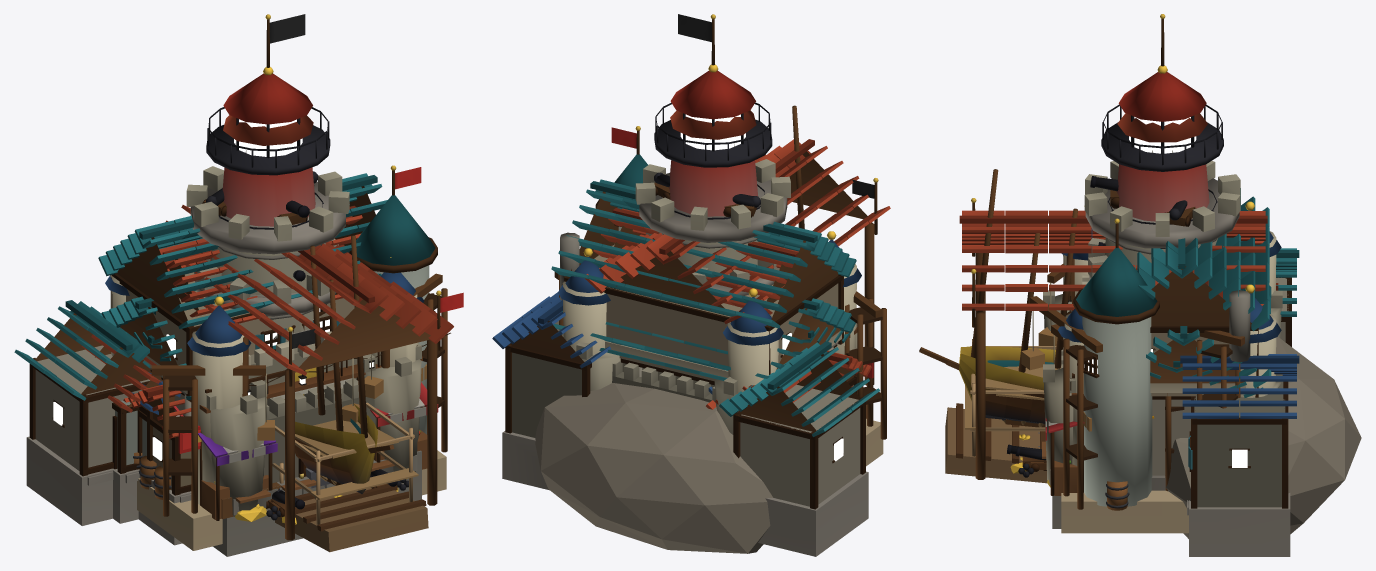
Rendered from buildings.glb.
3 renders of one model, left to right at view 1: azimuth 30°, elevation 25°; view 2: azimuth 150°, elevation 25°; view 3: azimuth 270°, elevation 25°, orthographic. The views are drawn at different scales.
Visible parts, largest first — view 1: shipyard_3, tower_3, tavern_3, lighthouse_3, market_3, vault_3, shipyard_2, dock_3, shipyard_1, mine_2, tower_2, tavern_2 (+1 smaller); view 2: shipyard_3, mine_1, tavern_3, tower_3, mine_3, lighthouse_3, vault_3, market_3, dock_3, tavern_2, tower_2, mine_2; view 3: tavern_3, shipyard_3, mine_3, tower_3, lighthouse_3, mine_1, market_3, dock_3, vault_3, shipyard_2, shipyard_1.
Part boxes in pixels (x1=…): shipyard_3: x1=14, y1=205, x2=463, y2=551; tower_3: x1=186, y1=14, x2=421, y2=556; tavern_3: x1=98, y1=165, x2=450, y2=503; lighthouse_3: x1=131, y1=67, x2=330, y2=526; market_3: x1=99, y1=290, x2=446, y2=550; vault_3: x1=105, y1=257, x2=424, y2=521; shipyard_2: x1=81, y1=279, x2=426, y2=551; dock_3: x1=151, y1=273, x2=447, y2=519; shipyard_1: x1=279, y1=462, x2=427, y2=543; mine_2: x1=124, y1=384, x2=191, y2=545; tower_2: x1=194, y1=239, x2=338, y2=343; tavern_2: x1=159, y1=205, x2=362, y2=399; shipyard_3: x1=554, y1=105, x2=890, y2=556; mine_1: x1=535, y1=383, x2=773, y2=553; tavern_3: x1=551, y1=126, x2=873, y2=385; tower_3: x1=576, y1=14, x2=857, y2=434; mine_3: x1=492, y1=232, x2=871, y2=490; lighthouse_3: x1=654, y1=64, x2=772, y2=394; vault_3: x1=558, y1=231, x2=861, y2=392; market_3: x1=553, y1=298, x2=883, y2=466; dock_3: x1=604, y1=291, x2=886, y2=439; tavern_2: x1=593, y1=208, x2=798, y2=314; tower_2: x1=646, y1=233, x2=779, y2=295; mine_2: x1=827, y1=351, x2=871, y2=393; tavern_3: x1=1042, y1=188, x2=1269, y2=506; shipyard_3: x1=919, y1=169, x2=1299, y2=510; mine_3: x1=1010, y1=290, x2=1299, y2=556; tower_3: x1=1007, y1=14, x2=1282, y2=528; lighthouse_3: x1=1101, y1=65, x2=1223, y2=221; mine_1: x1=1038, y1=337, x2=1361, y2=538; market_3: x1=1045, y1=285, x2=1271, y2=533; dock_3: x1=1021, y1=263, x2=1102, y2=509; vault_3: x1=1015, y1=201, x2=1281, y2=487; shipyard_2: x1=946, y1=233, x2=1278, y2=491; shipyard_1: x1=946, y1=403, x2=1045, y2=463.
Bounding box in the file's own units: 11.3 × 15.95 × 12.64.
